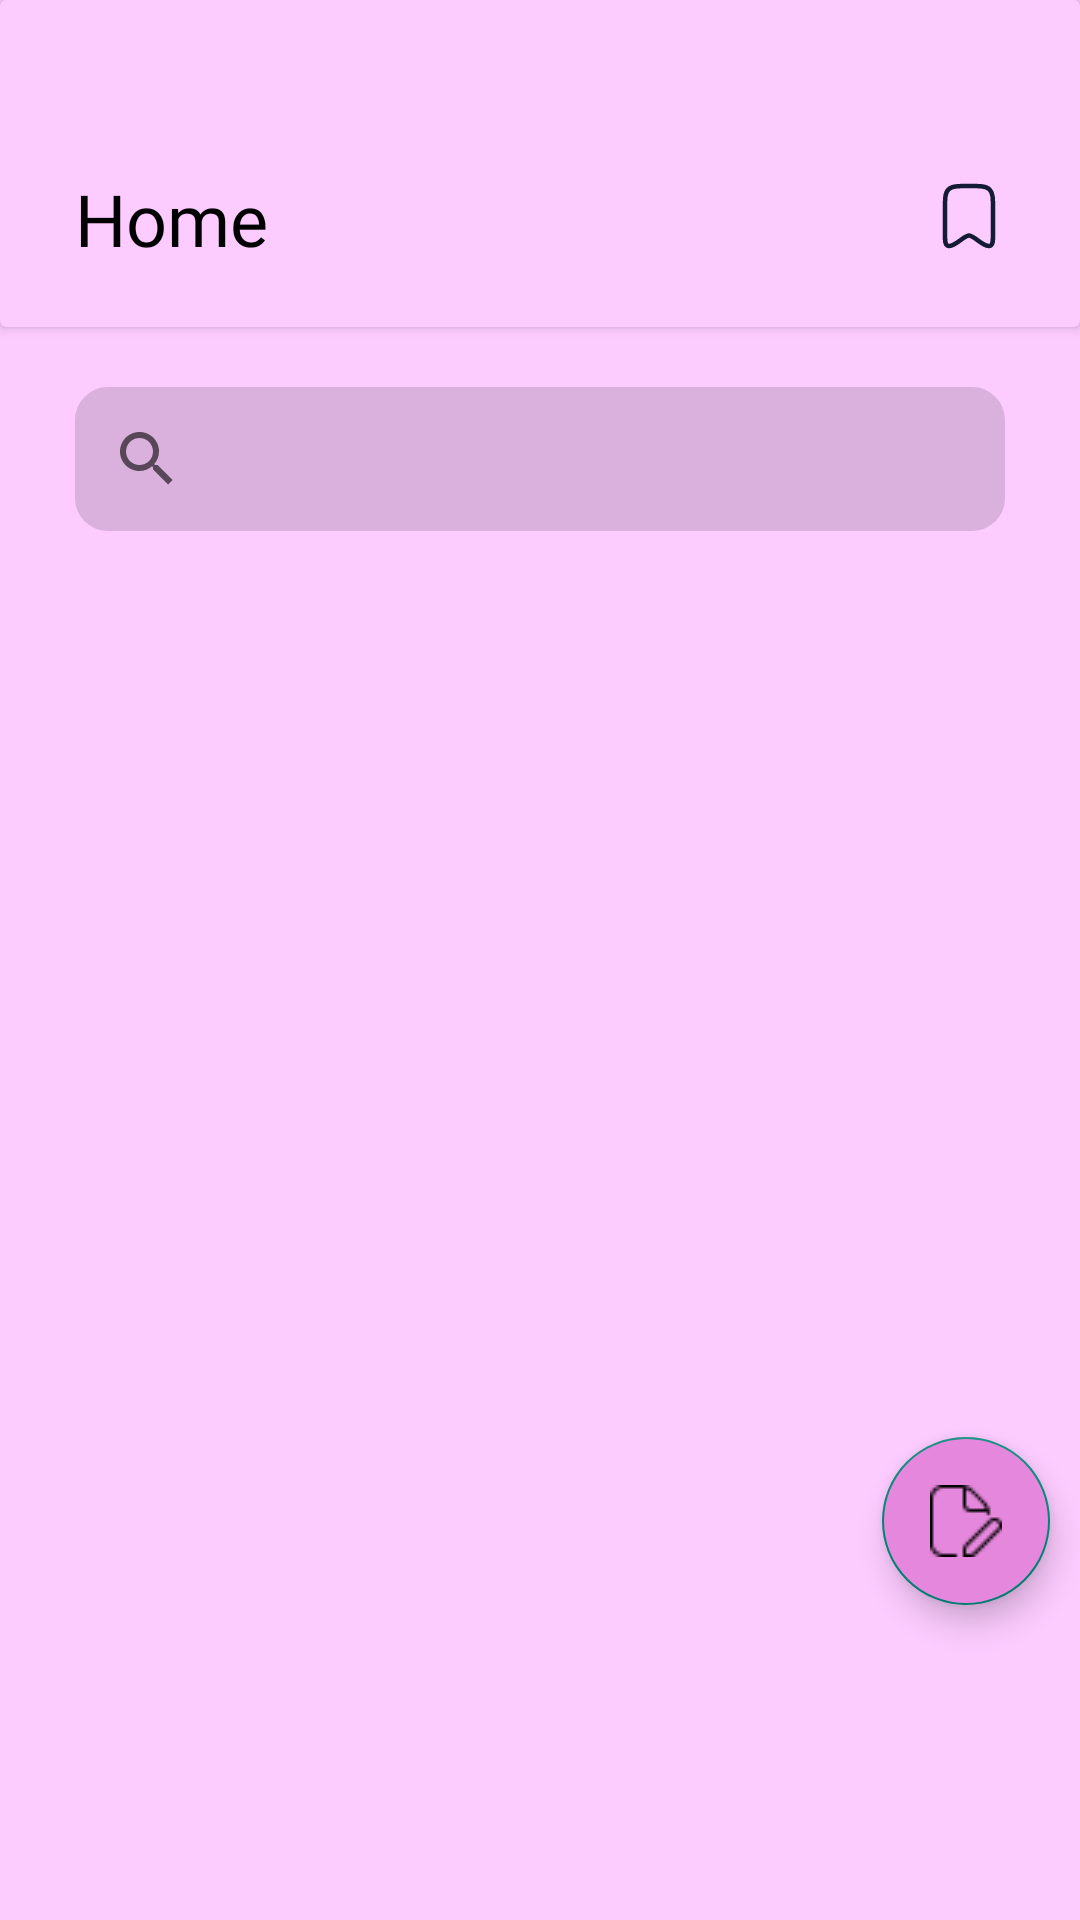

Point at icon controls on the screen. Image size 1080px x 1920px, points as (x=x, y=y).
doc: (x=966, y=1521)
save: (x=969, y=216)
